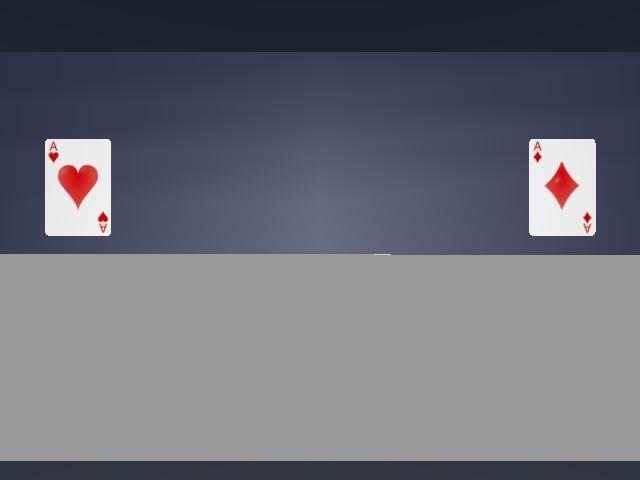diamond: (529, 139, 596, 235)
heart: (45, 139, 110, 235)
